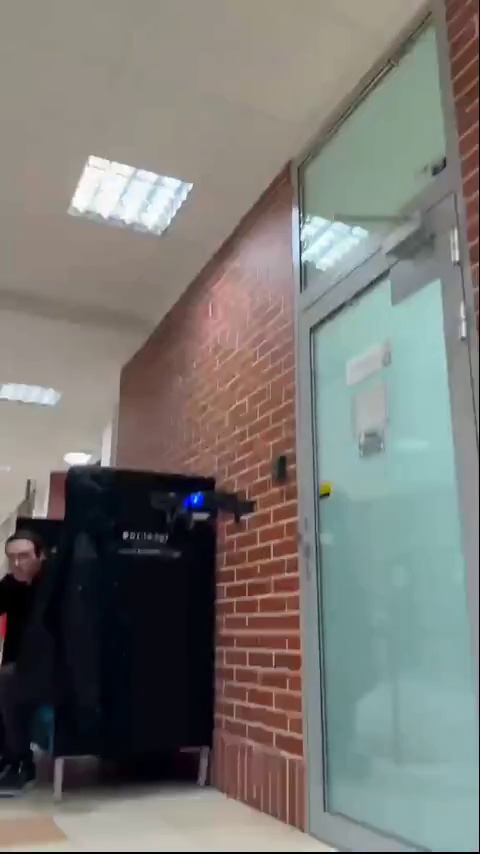drone: (164, 487, 255, 535)
no vest: (0, 530, 74, 794)
